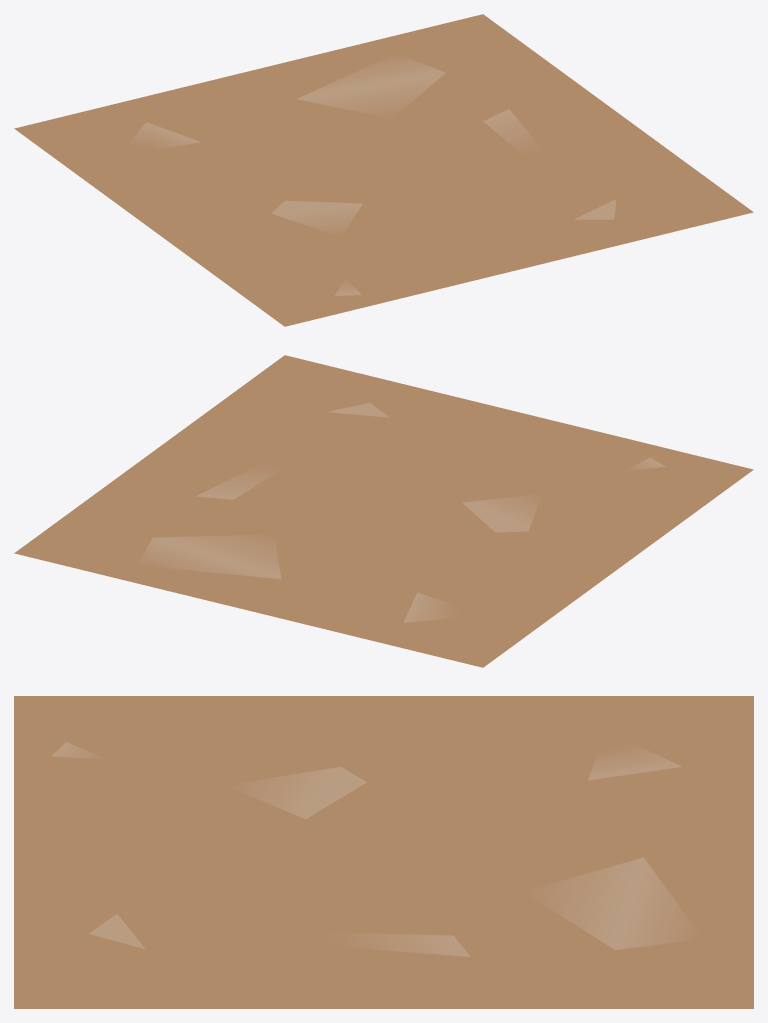
File: ground-sand.fbx
3 renders of one model, top to bottom at view 1: azimuth 30°, elevation 25°; view 2: azimuth 150°, elevation 25°; view 3: azimuth 270°, elevation 25°, orthographic. The views are drawn at different scales.
Visible parts, largest first — view 1: ground_sand; view 2: ground_sand; view 3: ground_sand.
Boxes of the visible parts, left/top/right/bottom form: ground_sand: left=14, top=14, right=753, bottom=326; ground_sand: left=14, top=355, right=753, bottom=667; ground_sand: left=14, top=696, right=753, bottom=1008.
Bounding box in the file's own units: 100 × 1.63e-05 × 100.
